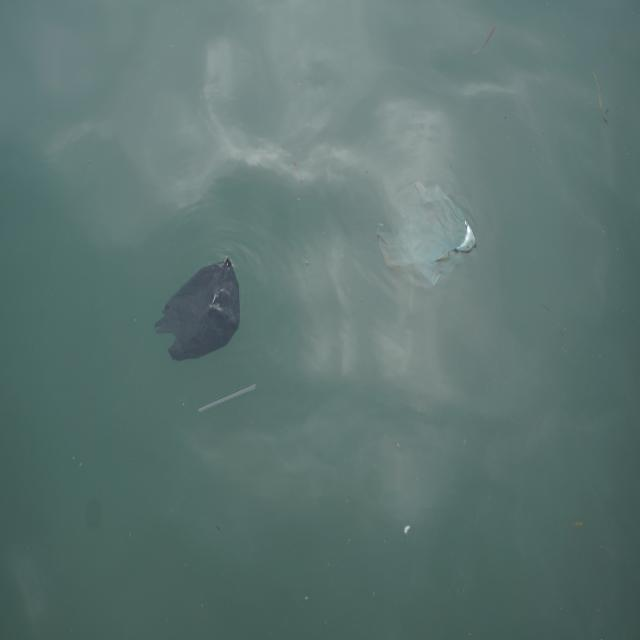Kantong Plastik: (380, 168, 479, 292), (150, 254, 243, 369)
